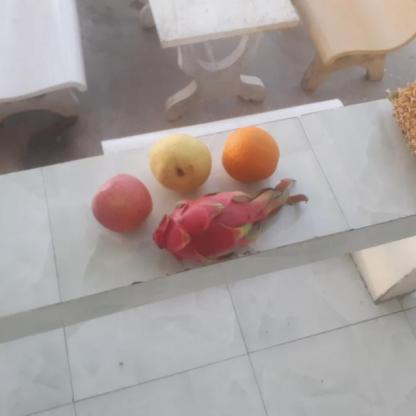orange: (218, 124, 282, 183)
pear: (145, 134, 214, 195)
pitaya: (155, 191, 264, 265)
